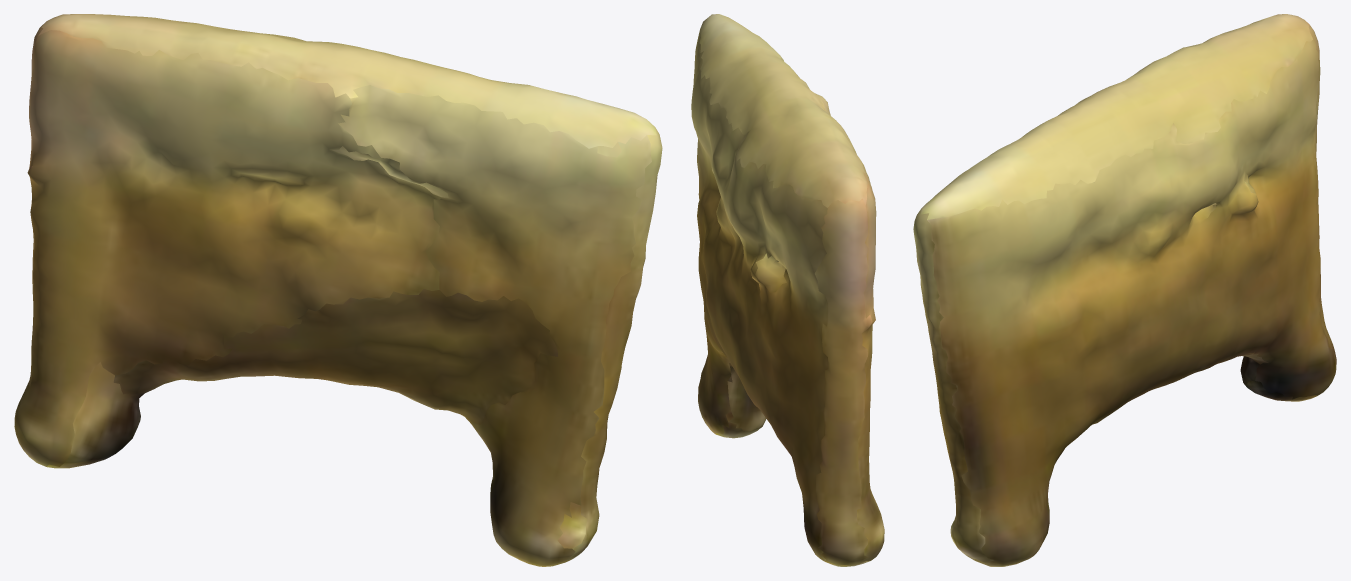
File: 27_chair.glb
The picture shows the model from 3 angles, left to right: view 1: azimuth 30°, elevation 25°; view 2: azimuth 150°, elevation 25°; view 3: azimuth 270°, elevation 25°; orthographic projection. The views are drawn at different scales.
Parts seen in each view (by area): view 1: 27_chair; view 2: 27_chair; view 3: 27_chair.
Part boxes in pixels (x1,y1,x2,y2): 27_chair: (14,14,662,566); 27_chair: (691,14,884,566); 27_chair: (913,14,1336,566).
Size of the model in its own units: 0.5406 by 0.6119 by 0.5535.
Materials: 1 (1 with a texture image).
